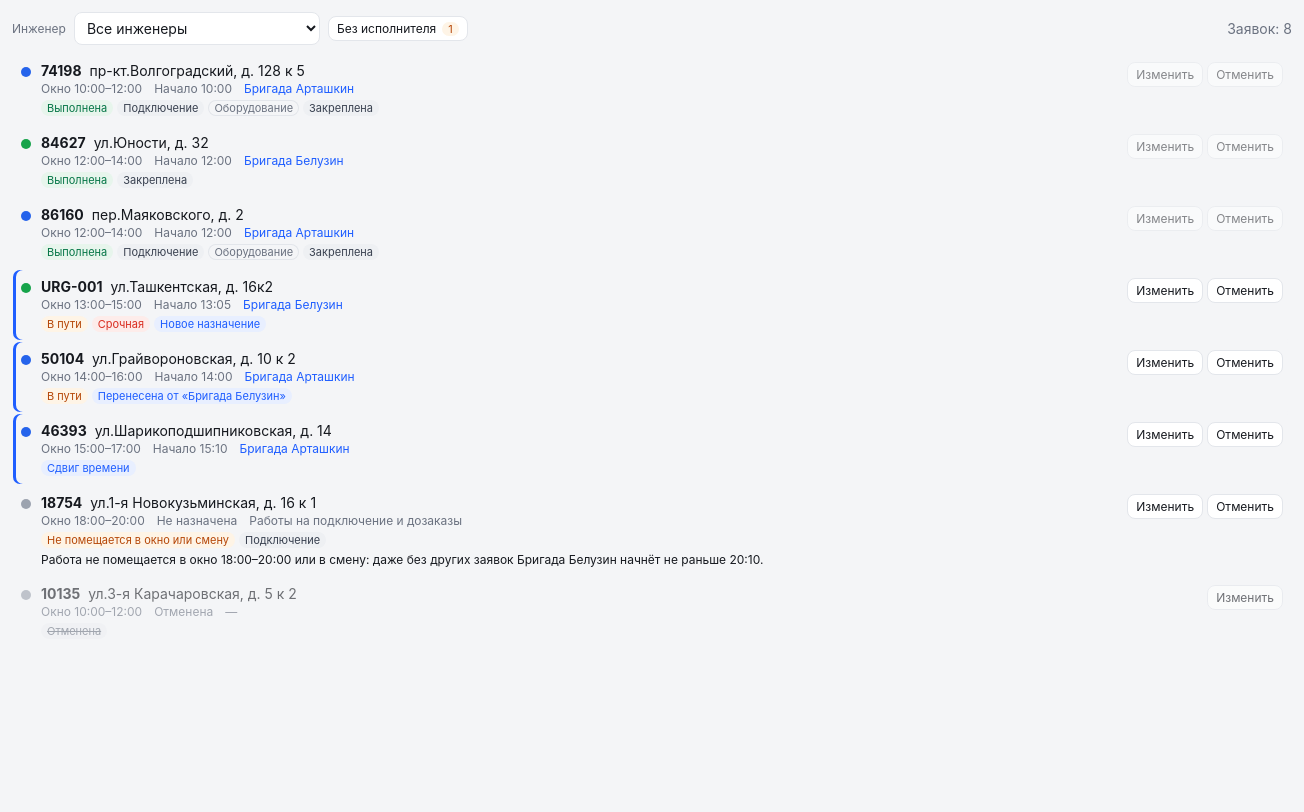
it: CancelToast › drops the cancel on ✕: nothing reaches the server
The image size is (1304, 812).
Click the button "Отменить" in the row of "50104" at (1245, 362), box [1207,350,1283,375]
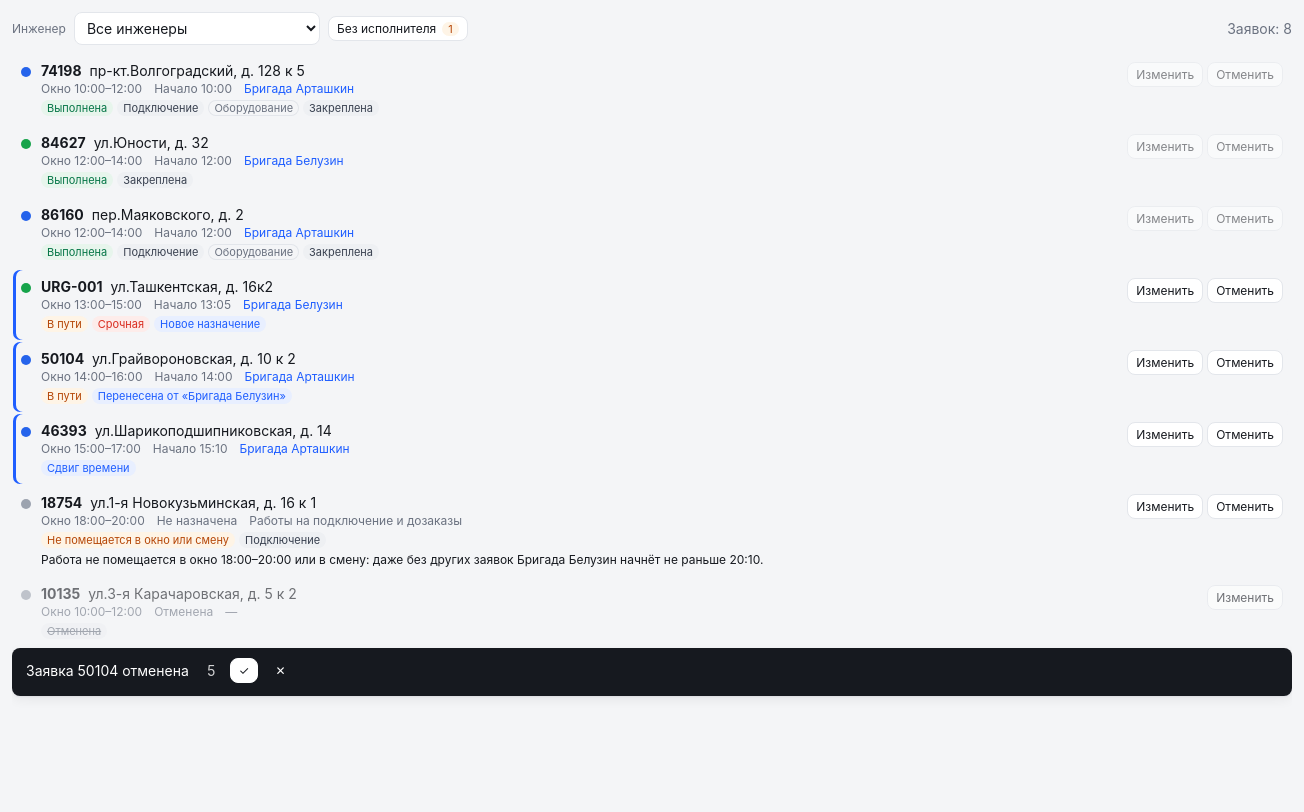
Click the button named "Не отменять заявку" at (280, 670), box [266,658,294,683]
Wait 10000 ms
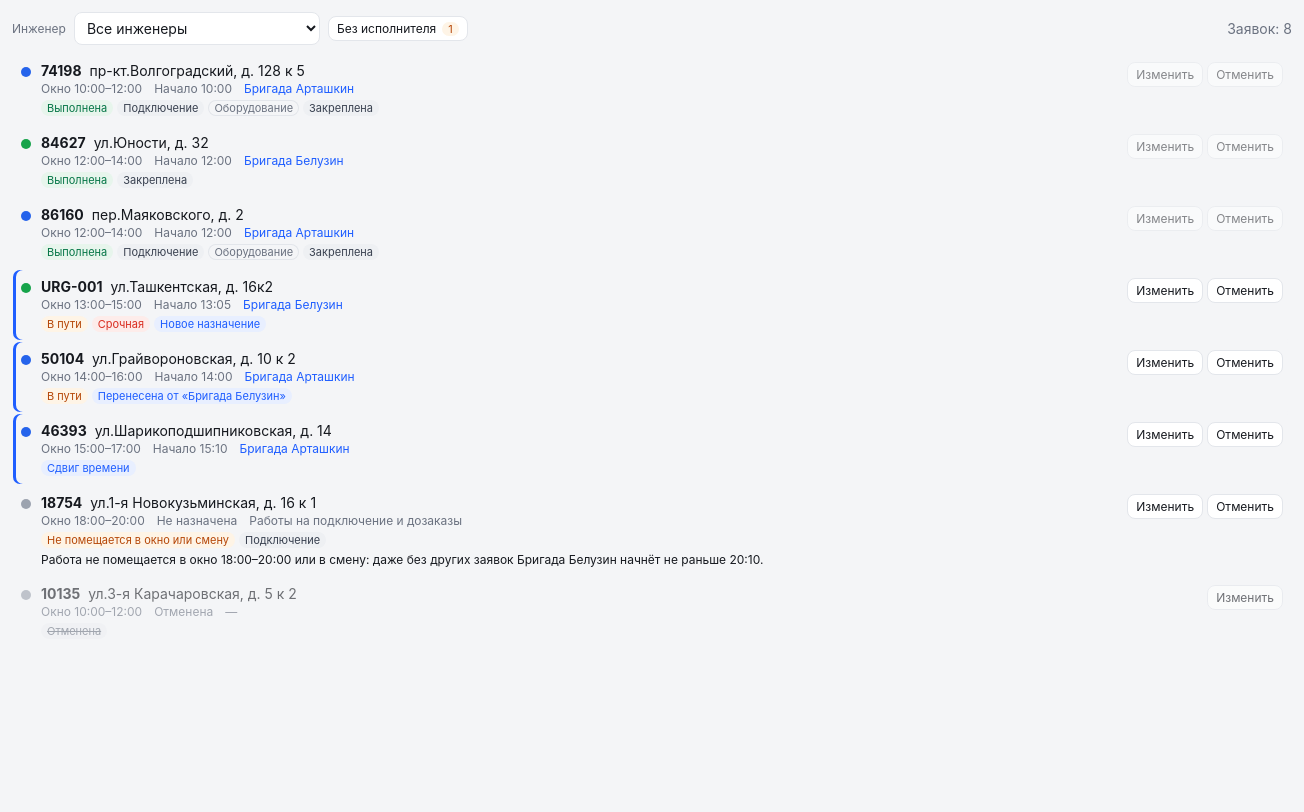
Expected: the button "Отменить" in the row of "50104" is enabled, [1207,350,1283,375]
Now the text "Заявка 50104 отменена" is gone
